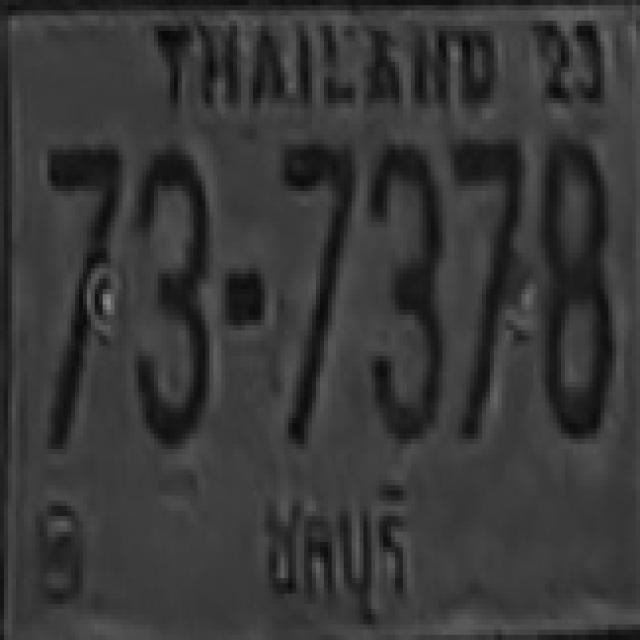3: (128, 147, 208, 441), (366, 142, 440, 436)
7: (278, 140, 354, 423), (452, 134, 520, 434), (451, 134, 522, 413), (44, 140, 118, 330)
8: (538, 134, 612, 434)
Chonburi: (247, 471, 421, 631)
